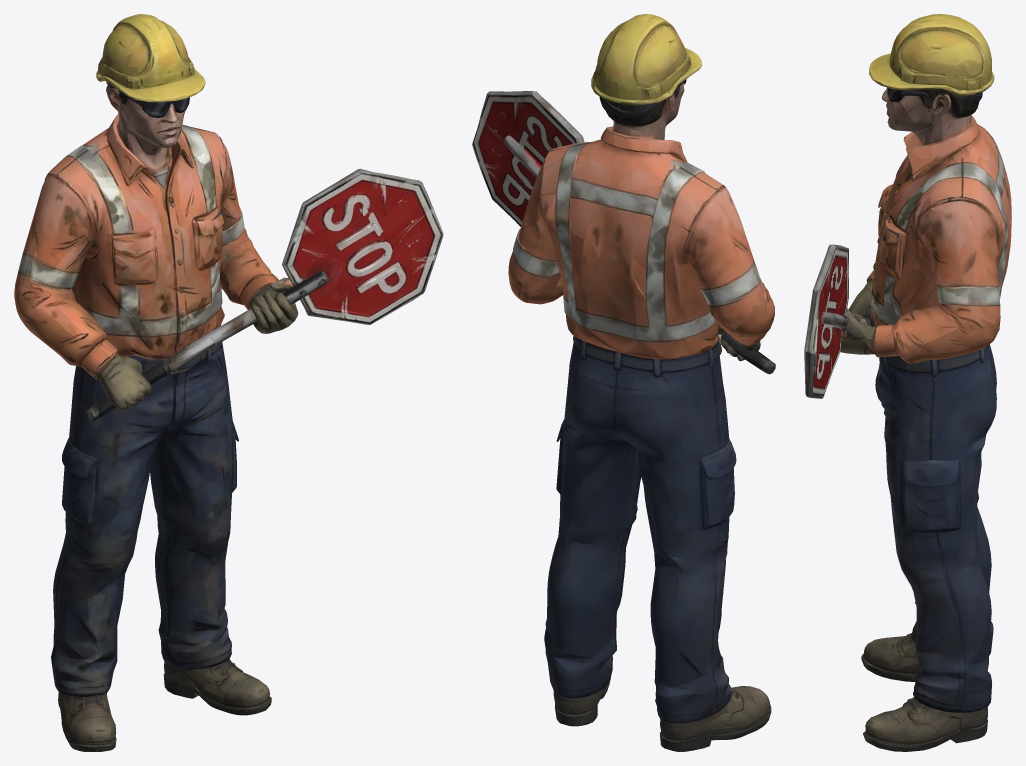
Rendered from traffic_controller.glb.
3 views of the same model, side by side, from view 1: azimuth 30°, elevation 25°; view 2: azimuth 150°, elevation 25°; view 3: azimuth 270°, elevation 25° (orthographic).
Bounding box in the file's own units: 1.03 × 1.9 × 0.5175.
1 material, 1 textured.
